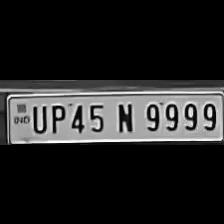4: (67, 100, 85, 132)
5: (85, 100, 107, 132)
9: (141, 99, 161, 131), (198, 99, 218, 130), (161, 99, 179, 130), (180, 99, 198, 129)
N: (112, 100, 136, 132)
P: (46, 102, 66, 132)
U: (28, 102, 48, 132)
